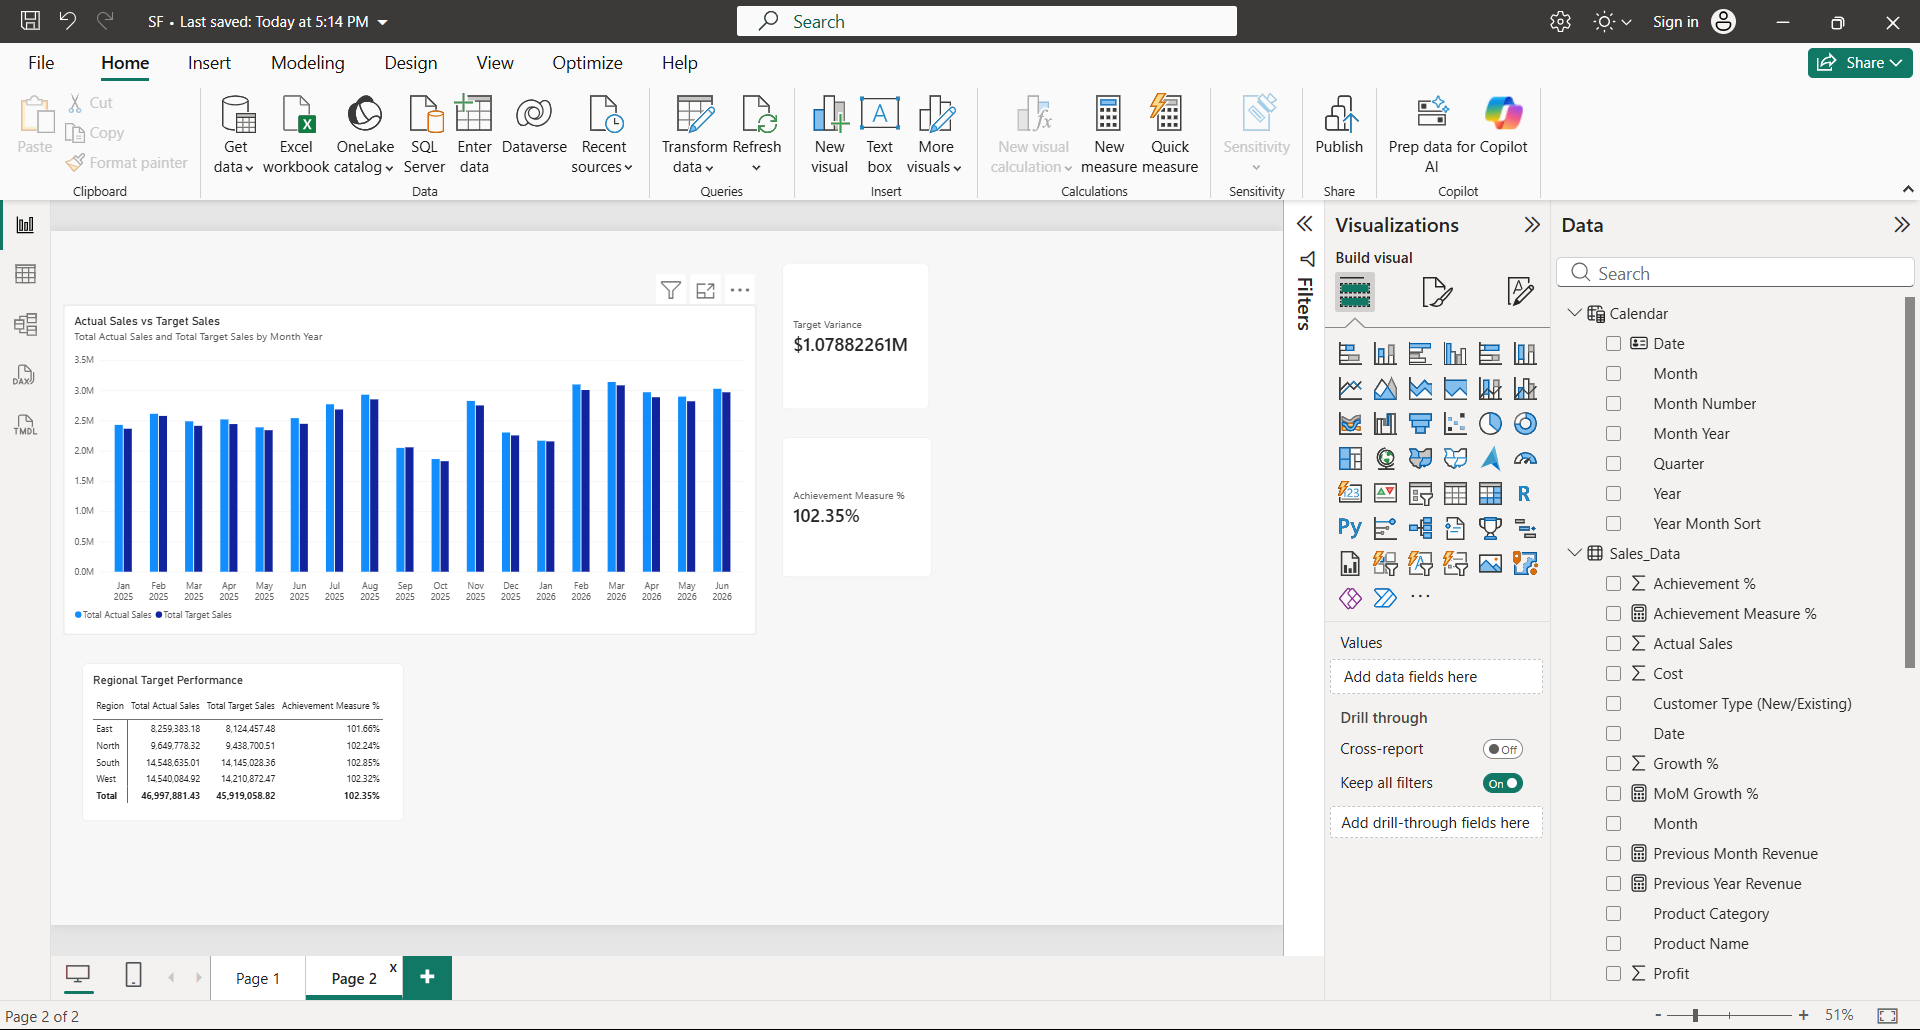

The dashboard page shown, as its layout file describes it:
{"tool":"powerbi","page":{"name":"Page 2","canvas":[1920,1080],"ordinal":1},"visuals":[{"type":"clusteredColumnChart","title":"Actual Sales vs Target Sales","fields":{"Category":["Calendar.Month Year"],"Y":["Sales_Data.Total Actual Sales","Sales_Data.Total Target Sales"]},"box":[19.5,114.9,1079,514.2],"z":0},{"type":"cardVisual","fields":{"Data":["Sales_Data.Target Variance"]},"box":[1139.4,50.6,229.8,227.9],"z":1},{"type":"cardVisual","fields":{"Data":["Sales_Data.Achievement Measure %"]},"box":[1139.4,321.4,233.7,218.1],"z":2},{"type":"pivotTable","title":"Regional Target Performance","fields":{"Rows":["Sales_Data.Region"],"Values":["Sales_Data.Total Actual Sales","Sales_Data.Total Target Sales","Sales_Data.Achievement Measure %"]},"box":[48.7,673.9,500.5,245.4],"z":3}]}

Visuals, with their boxes on the page's 1920x1080 design canvas (x1, y1, x2, y2). These are canvas units, not pixel positions in the 1920x1030 screenshot, which may show the page scaled, cropped or inside an application window:
"Actual Sales vs Target Sales" clusteredColumnChart: (20,115,1098,629)
cardVisual - Sales_Data.Target Variance: (1139,51,1369,278)
cardVisual - Sales_Data.Achievement Measure %: (1139,321,1373,540)
"Regional Target Performance" pivotTable: (49,674,549,919)
